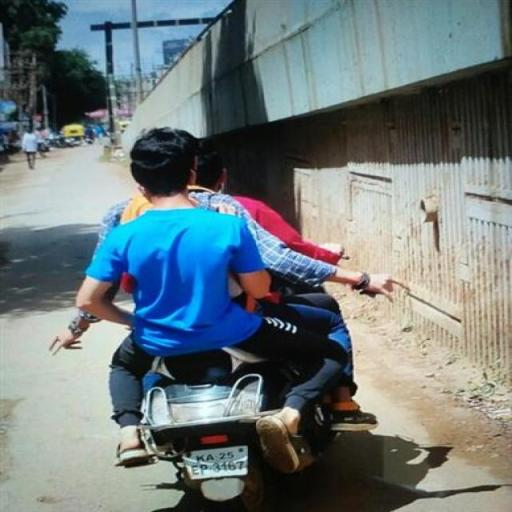tripple riding: (41, 122, 363, 362)
